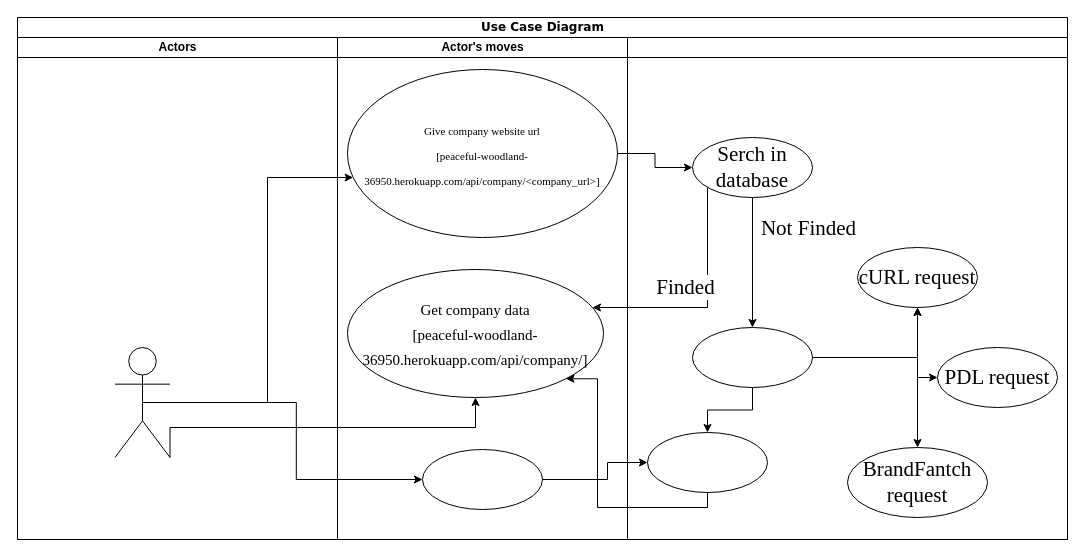
Image size: 1085x557. Some labels were removed from this diagram. The shapes that lost their labels are listed below. From the top down, each one's box as (x1, y1, x2, y2) in pixels, then its label:
(626, 36, 1068, 540): API moves
(692, 326, 812, 388): Get Data
(114, 346, 170, 458): User
(422, 448, 542, 510): Post new company
(646, 432, 768, 492): Save to Database
